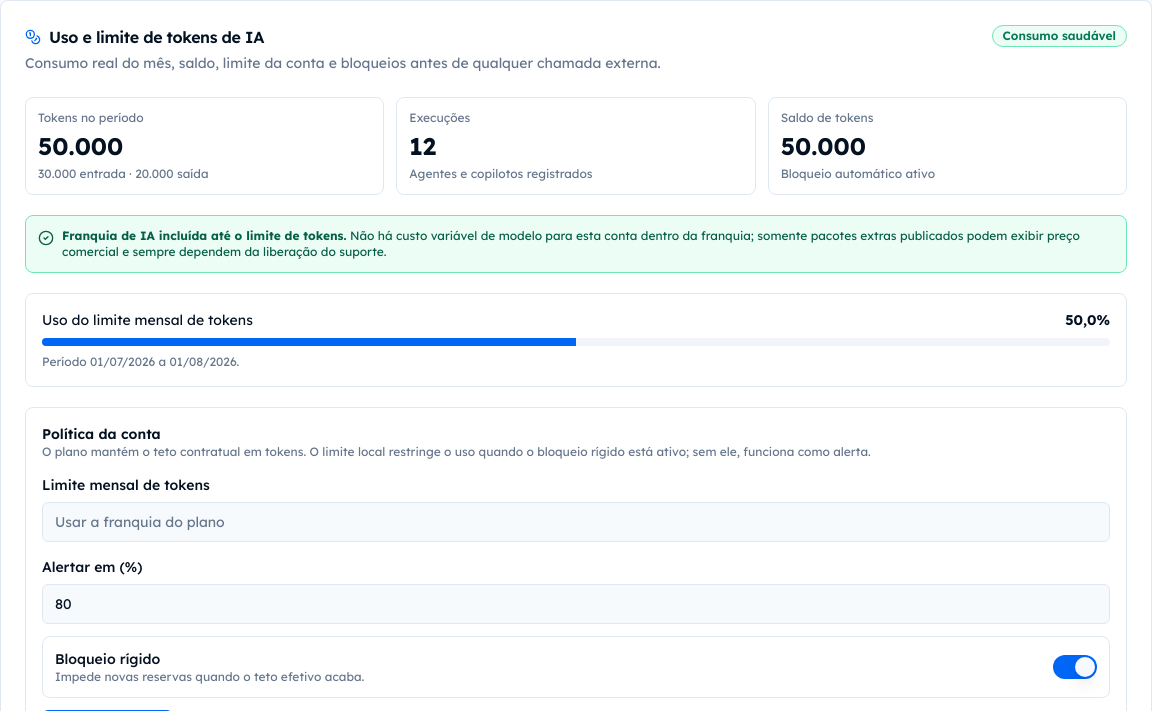
AiCostControlPanel › explica uma política inválida e não tenta persistir
Replace the text in the number field labelled "Alertar em (%)" with "101": [576, 604] box [42,584,1110,624]
(page scrolled)
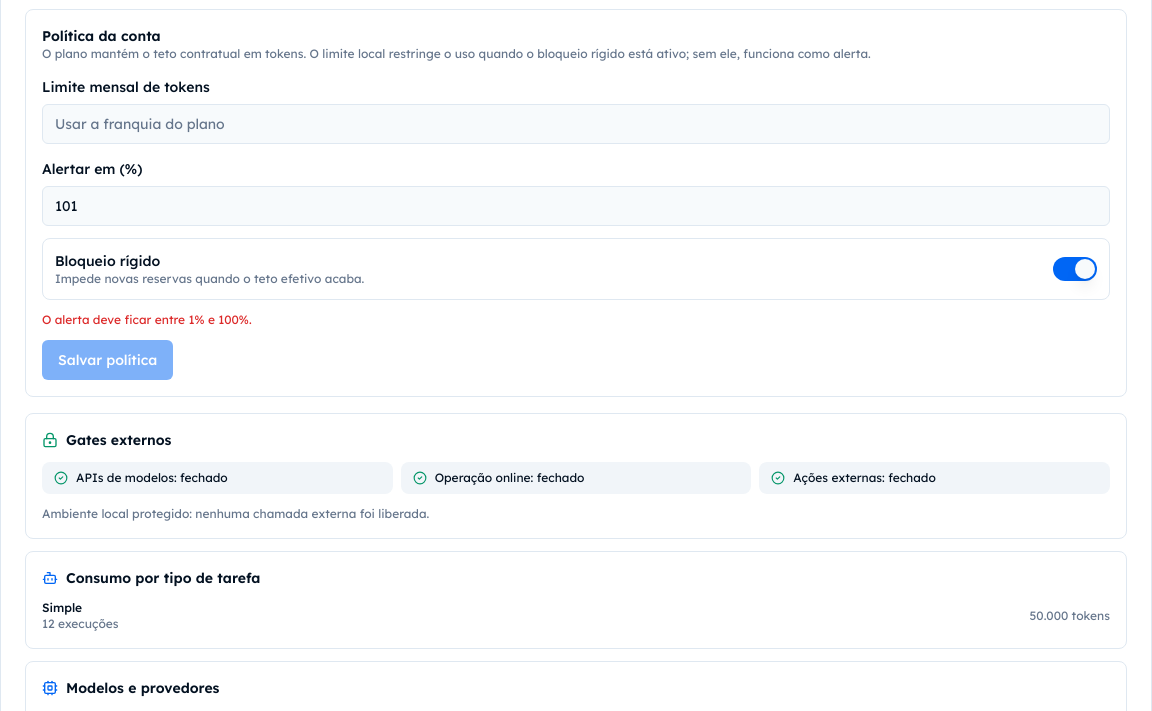
Check: the message reads "O alerta deve ficar entre 1% e 100%.", box [42,312,252,327]
Check: the button "Salvar política" is disabled, box [42,340,173,380]
